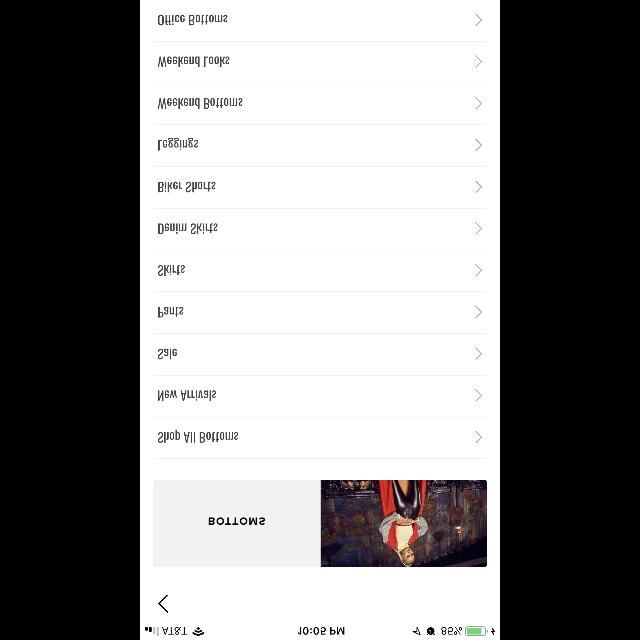icon: (158, 594, 168, 612), (476, 431, 482, 444), (476, 14, 482, 26), (476, 56, 482, 68), (476, 97, 482, 109), (476, 139, 482, 151), (476, 181, 482, 193), (476, 222, 482, 234), (476, 264, 482, 276), (476, 306, 482, 318), (476, 348, 482, 360), (476, 389, 482, 401)
image: (321, 479, 487, 566)
text: (158, 430, 238, 442), (158, 98, 244, 109), (158, 56, 230, 68), (158, 14, 228, 26), (158, 223, 218, 234), (159, 391, 217, 402), (158, 182, 216, 192), (158, 138, 198, 150), (208, 517, 266, 525), (158, 264, 186, 276), (158, 306, 184, 318), (158, 348, 178, 359)
uppertaskbar: (140, 626, 500, 640)
